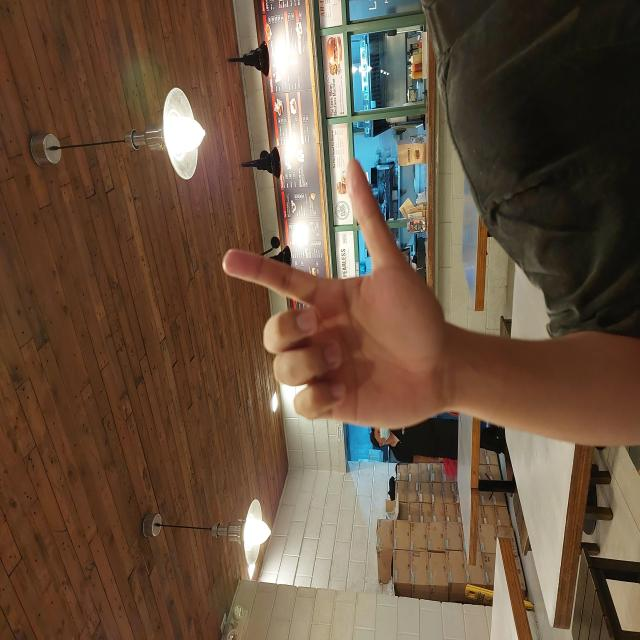L: (210, 220, 483, 456)
